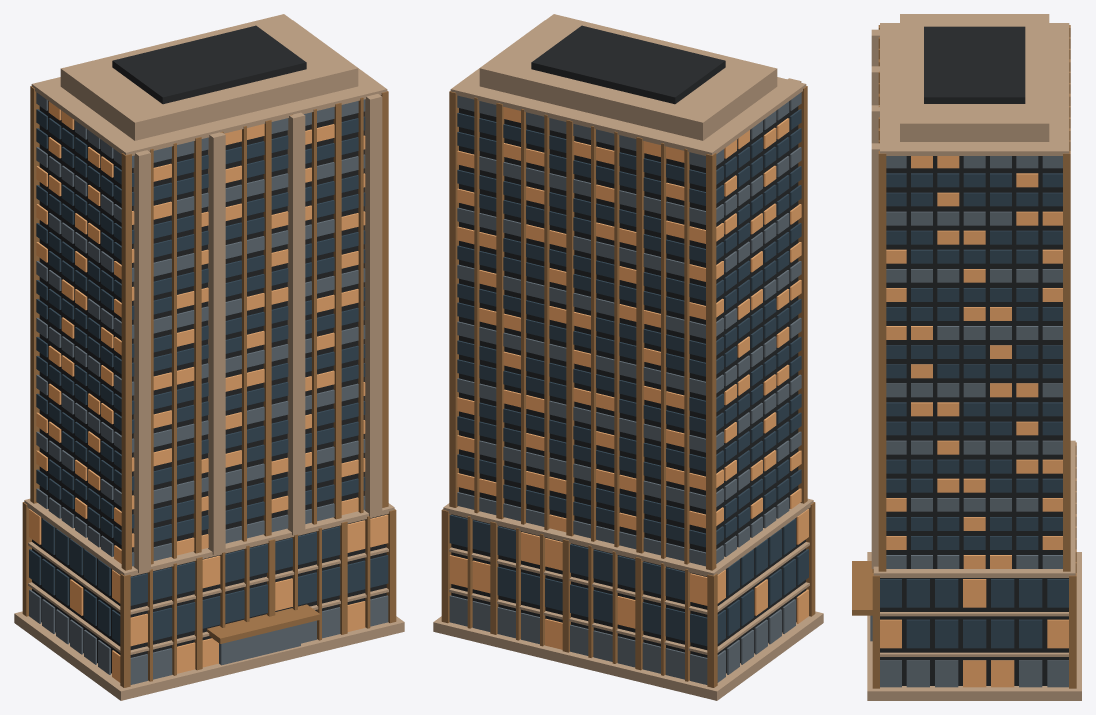
Rendered from mumbai-fuego.glb.
3 views of the same model, side by side, from view 1: azimuth 30°, elevation 25°; view 2: azimuth 150°, elevation 25°; view 3: azimuth 270°, elevation 25° (orthographic).
Visible parts, largest first — view 1: Facade, Entrances and podium, Roof detailing; view 2: Facade, Entrances and podium, Roof detailing; view 3: Facade, Entrances and podium, Roof detailing.
Boxes of the visible parts, bbox=[...] form: Facade: bbox=[30, 20, 388, 572]; Entrances and podium: bbox=[14, 498, 404, 700]; Roof detailing: bbox=[60, 14, 358, 140]; Facade: bbox=[449, 20, 807, 570]; Entrances and podium: bbox=[433, 498, 823, 700]; Roof detailing: bbox=[479, 14, 777, 140]; Facade: bbox=[871, 23, 1070, 571]; Entrances and podium: bbox=[852, 440, 1081, 700]; Roof detailing: bbox=[900, 14, 1049, 141].
Bounding box in the file's own units: 5.64 × 10.75 × 3.93.
